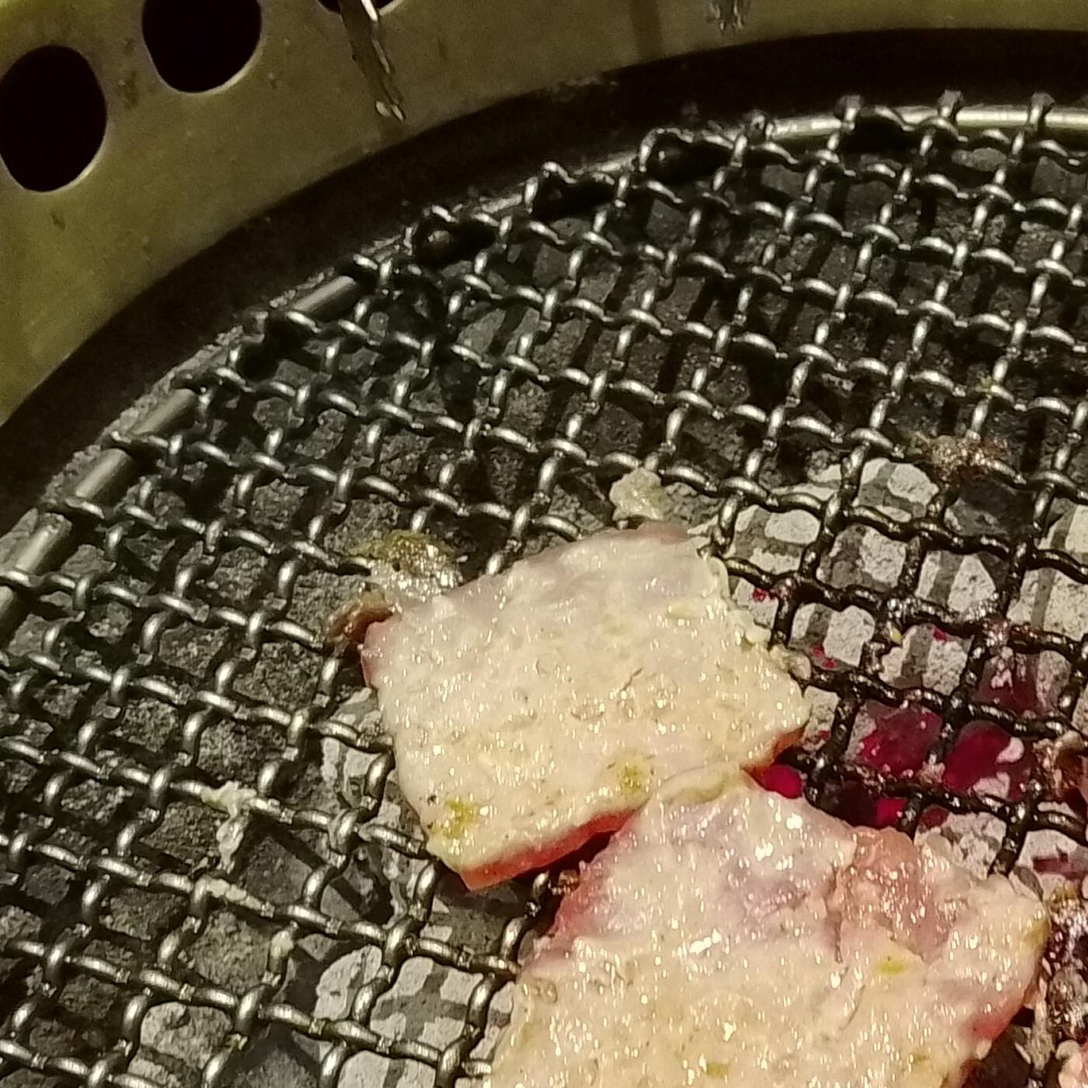Undercooked: (345, 518, 1050, 1087)
